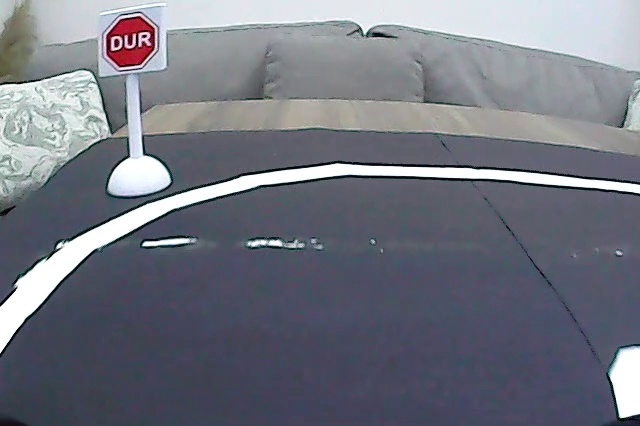stop sign: (101, 9, 161, 74)
